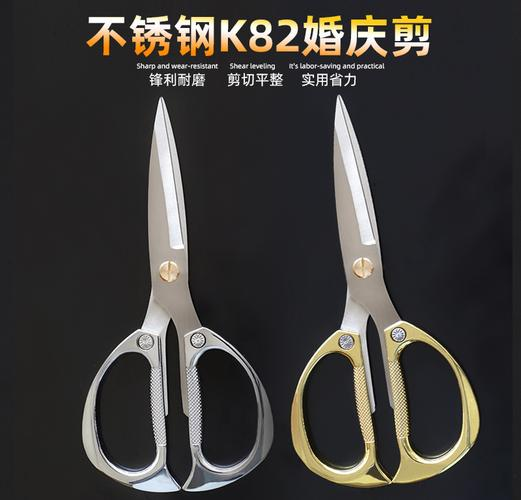scissor: (81, 91, 273, 497), (292, 92, 478, 488)
